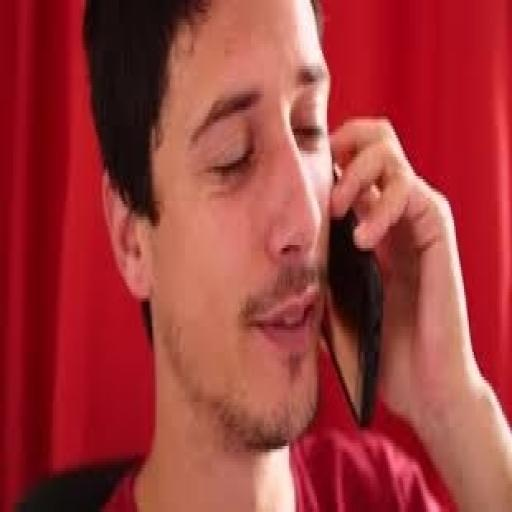calling: (15, 0, 509, 509)
